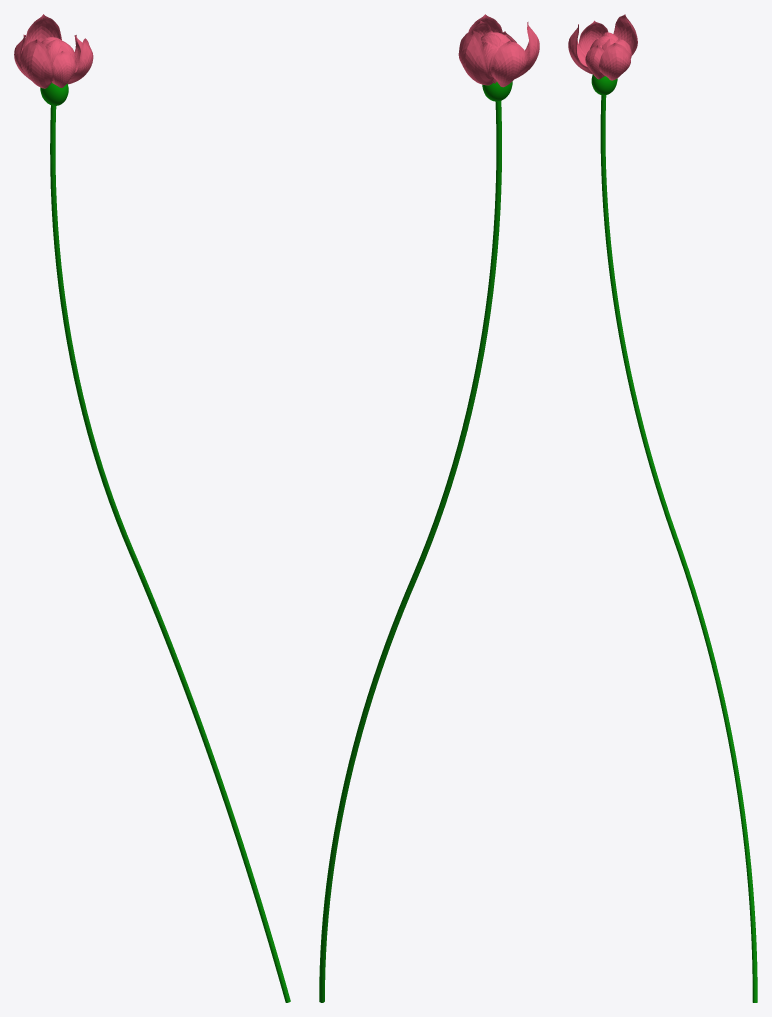
File: Lotus027.fbx
The picture shows the model from 3 angles, left to right: view 1: azimuth 30°, elevation 25°; view 2: azimuth 150°, elevation 25°; view 3: azimuth 330°, elevation 25°; orthographic projection. The views are drawn at different scales.
Parts seen in each view (by area): view 1: pCylinder5, nurbsToPoly11, nurbsToPoly10, nurbsToPoly8; view 2: pCylinder5, nurbsToPoly10, nurbsToPoly12; view 3: pCylinder5, nurbsToPoly24, nurbsToPoly10, nurbsToPoly12, nurbsToPoly11.
Boxes of the visible parts, x1,y1,x2,y2 form: pCylinder5: [50, 105, 290, 1002]; nurbsToPoly11: [20, 39, 53, 88]; nurbsToPoly10: [25, 14, 61, 45]; nurbsToPoly8: [52, 51, 76, 87]; pCylinder5: [319, 101, 501, 1002]; nurbsToPoly10: [458, 30, 493, 85]; nurbsToPoly12: [491, 41, 527, 87]; pCylinder5: [600, 95, 757, 1002]; nurbsToPoly24: [599, 43, 630, 80]; nurbsToPoly10: [613, 14, 637, 55]; nurbsToPoly12: [579, 20, 608, 54]; nurbsToPoly11: [568, 24, 592, 74].
Size of the model in its own units: 50.21 by 203 by 21.36.
